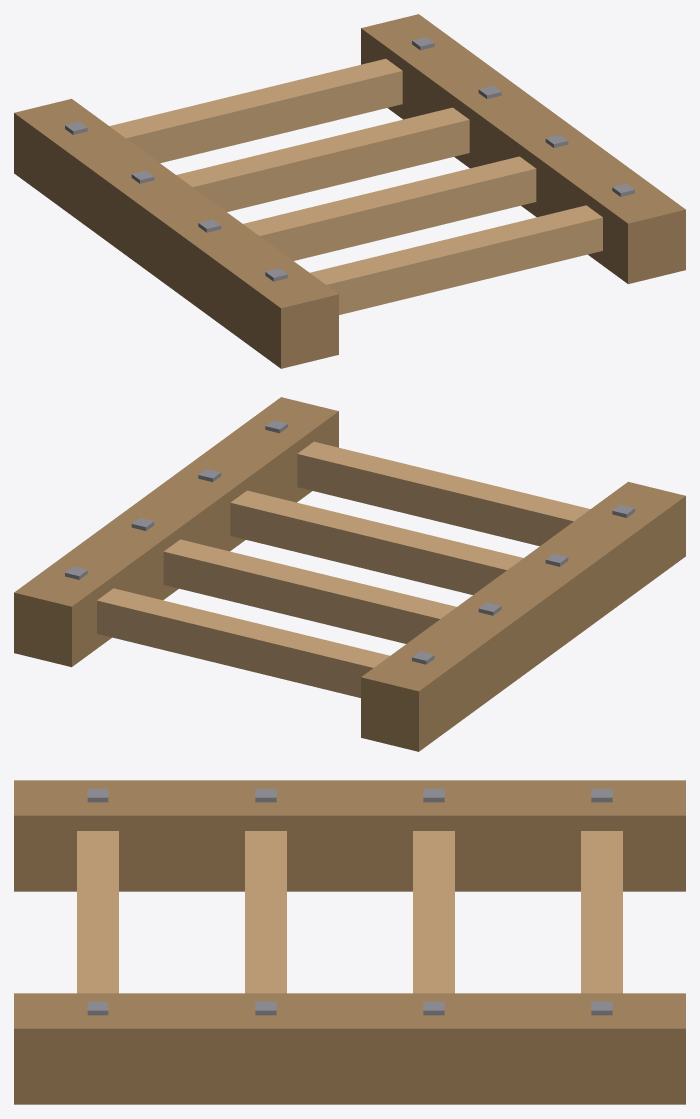
The model's file is rungs_held.gltf.
3 views of the same model, one above another, from view 1: azimuth 30°, elevation 25°; view 2: azimuth 150°, elevation 25°; view 3: azimuth 270°, elevation 25° (orthographic). The views are drawn at different scales.
Parts seen in each view (by area): view 1: timber_rungs_held; view 2: timber_rungs_held; view 3: timber_rungs_held.
Part boxes in pixels (x1,y1,x2,y2): timber_rungs_held: [14, 14, 685, 368]; timber_rungs_held: [14, 397, 685, 751]; timber_rungs_held: [14, 780, 685, 1104].
Bounding box in the file's own units: 0.2625 × 0.0398 × 0.3.
